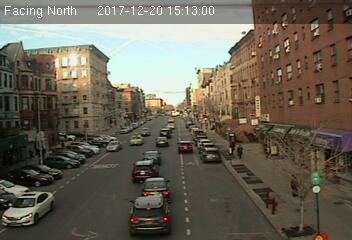car: (2, 187, 55, 229), (129, 196, 172, 235), (142, 177, 174, 201), (131, 159, 160, 185), (201, 147, 220, 164), (142, 149, 162, 163), (175, 140, 195, 154), (105, 140, 121, 153), (129, 132, 143, 146), (154, 137, 169, 148)
